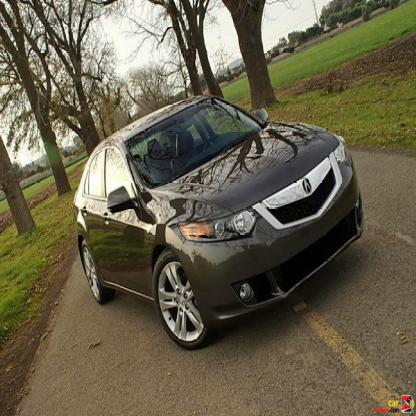Vehicle: (73, 94, 366, 352)
